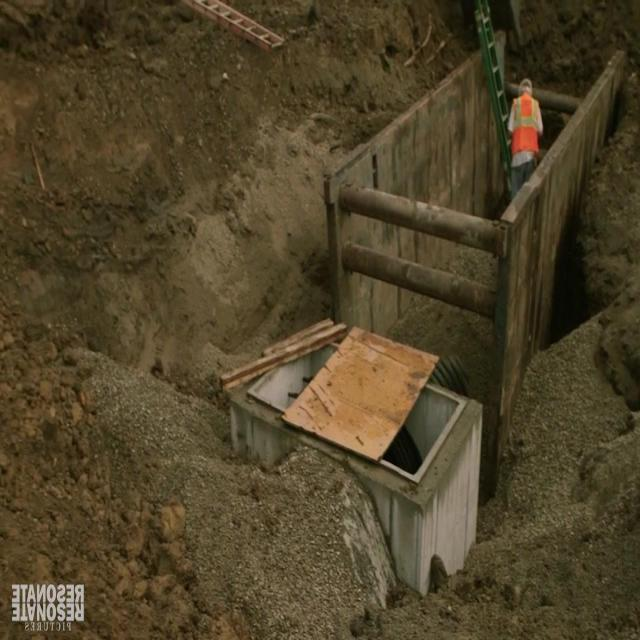reflective_jacket: (505, 95, 545, 165)
safety_helmet: (515, 71, 537, 100)
